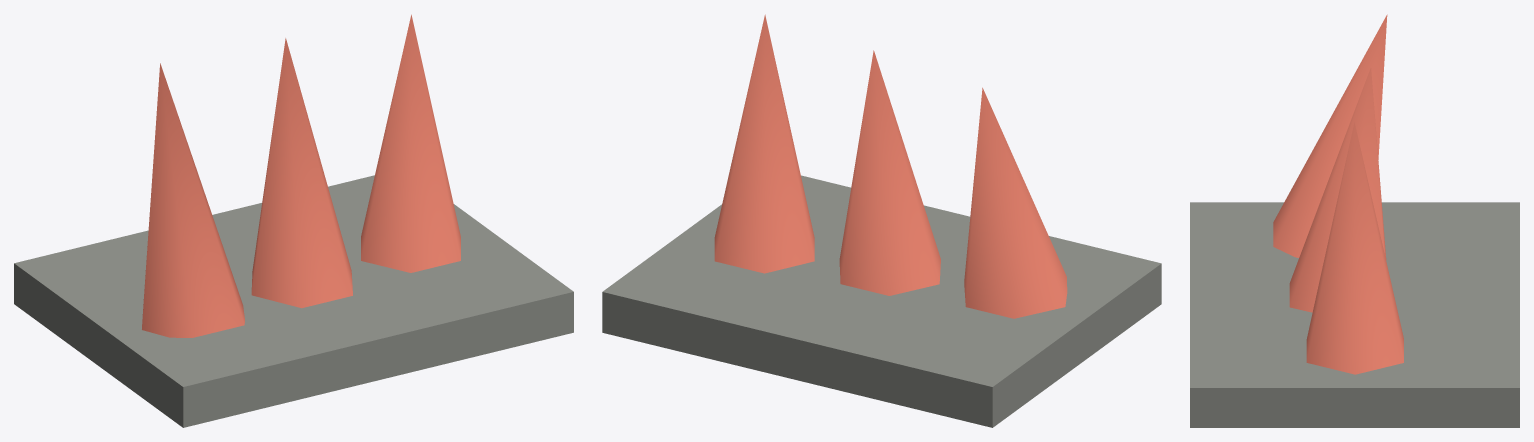
The model's file is spike_trap.glb.
3 renders of one model, left to right at view 1: azimuth 30°, elevation 25°; view 2: azimuth 150°, elevation 25°; view 3: azimuth 270°, elevation 25°, orthographic. The views are drawn at different scales.
Parts seen in each view (by area): view 1: spike_trap; view 2: spike_trap; view 3: spike_trap.
Part boxes in pixels (x1,y1,x2,y2): spike_trap: (14, 14, 573, 427); spike_trap: (602, 14, 1161, 427); spike_trap: (1190, 14, 1519, 427).
Bounding box in the file's own units: 1.2 × 0.81 × 0.9.
